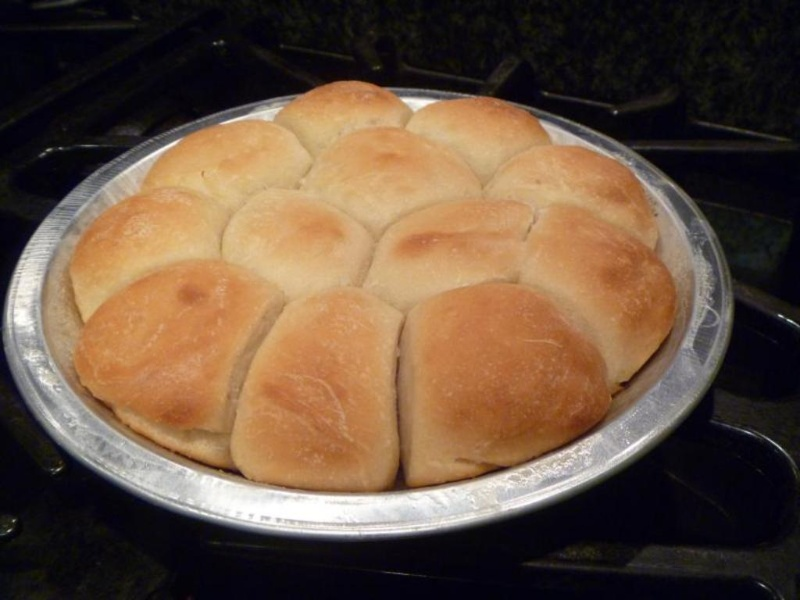bread: (242, 290, 406, 492)
